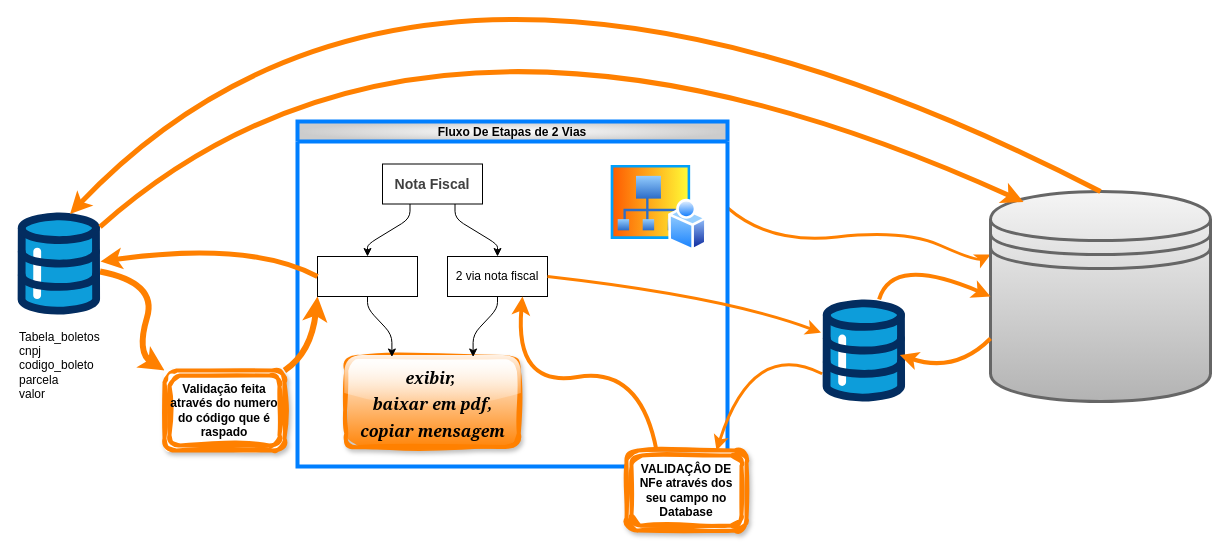
The diagram is 1229 pixels wide and 557 high, and some of its shapes have lost their labels. The centre of each missing label's shape, as x and y in pixels:
"2 via Boleto" goes at (367,276).
"Tabela De Pedidos pedios CNPJ EMAIL NOTA FISCAL" goes at (1100,296).
"Tabela_nfes cnpj nome_destinatario NFe xml" goes at (863,350).
